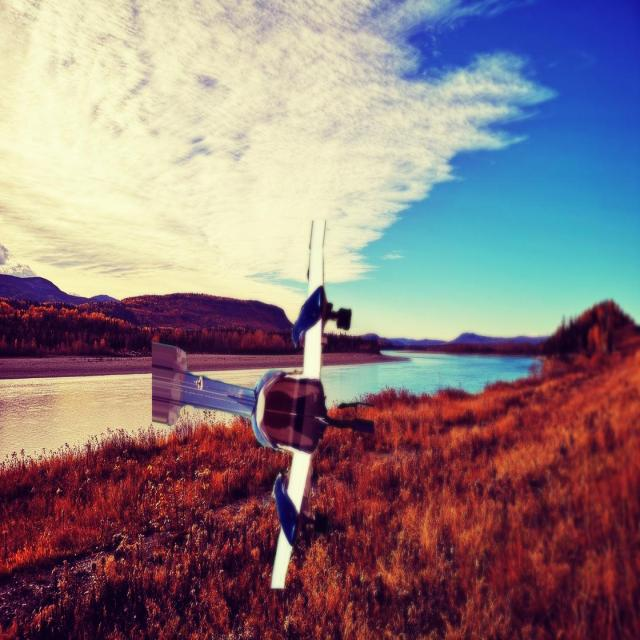airplane: (150, 218, 376, 589)
